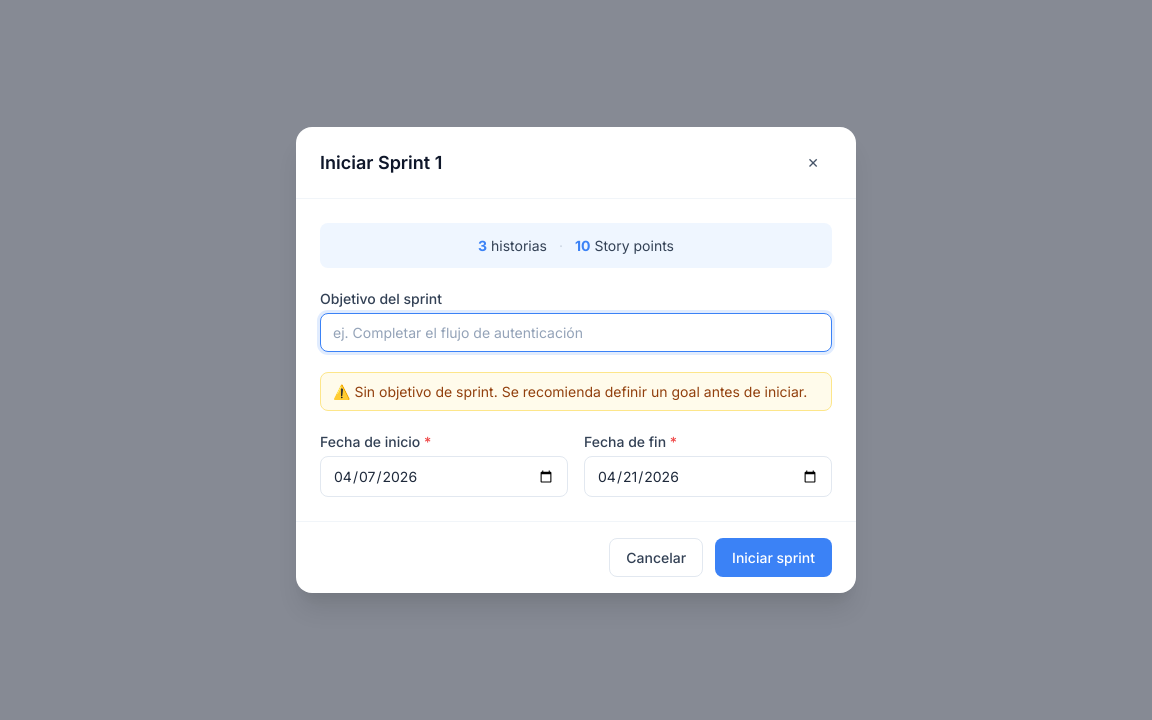
Scenario: StartSprintModal › hides warning when goal is entered
Type "Completar login" into the field with placeholder "ej. Completar el flujo de autenticación".
click(576, 332); type("Completar login")  # box 320,313 -> 832,352
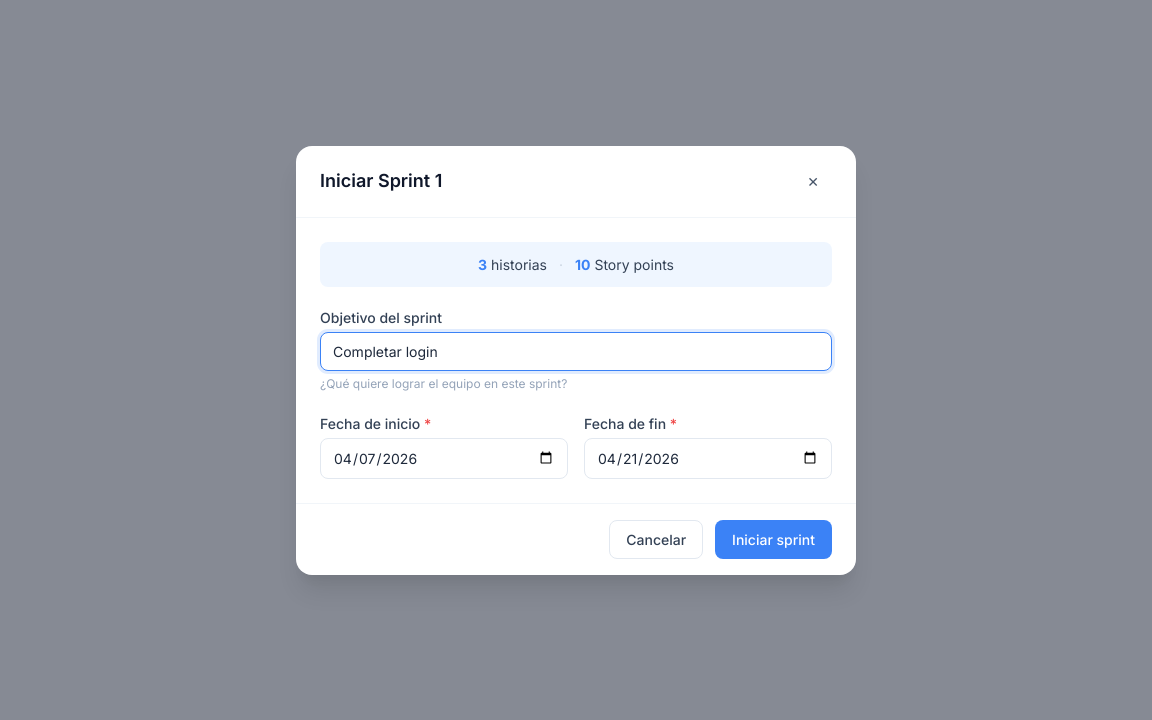
Check: the text "Sin objetivo" is gone
